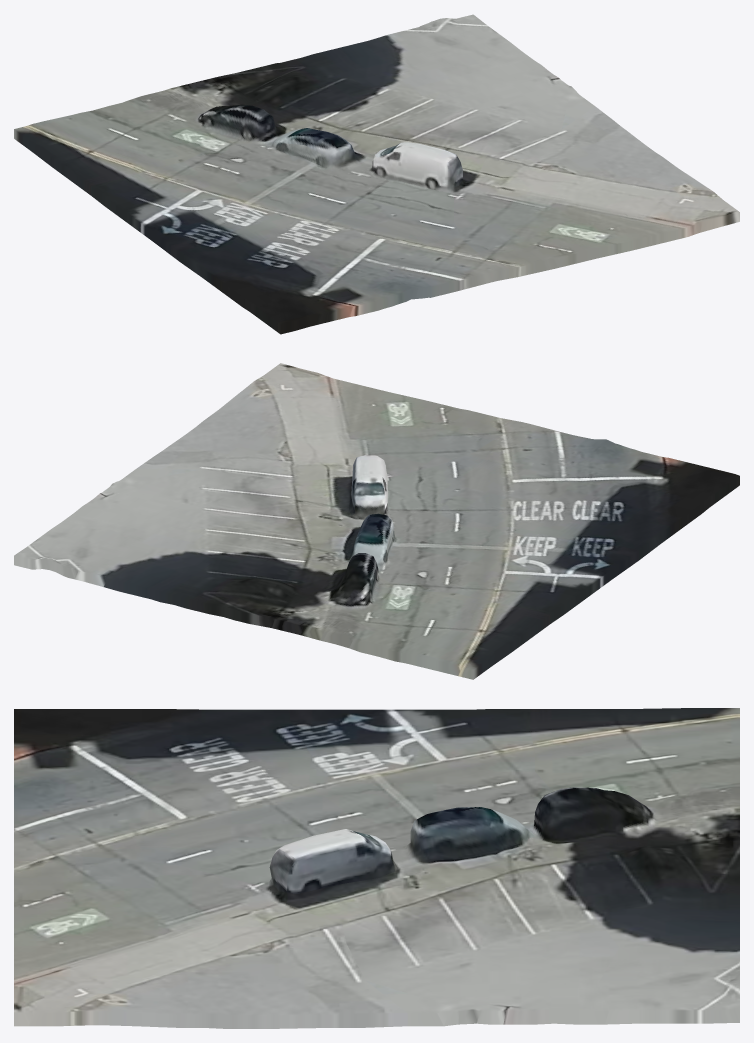
Rendered from z20-167777-405207-h0-yup-uvflip-v3-world.glb.
3 views of the same model, one above another, from view 1: azimuth 30°, elevation 25°; view 2: azimuth 150°, elevation 25°; view 3: azimuth 270°, elevation 25° (orthographic). The views are drawn at different scales.
Size of the model in its own units: 30.16 by 2.56 by 30.32.
1 material, 1 textured.
